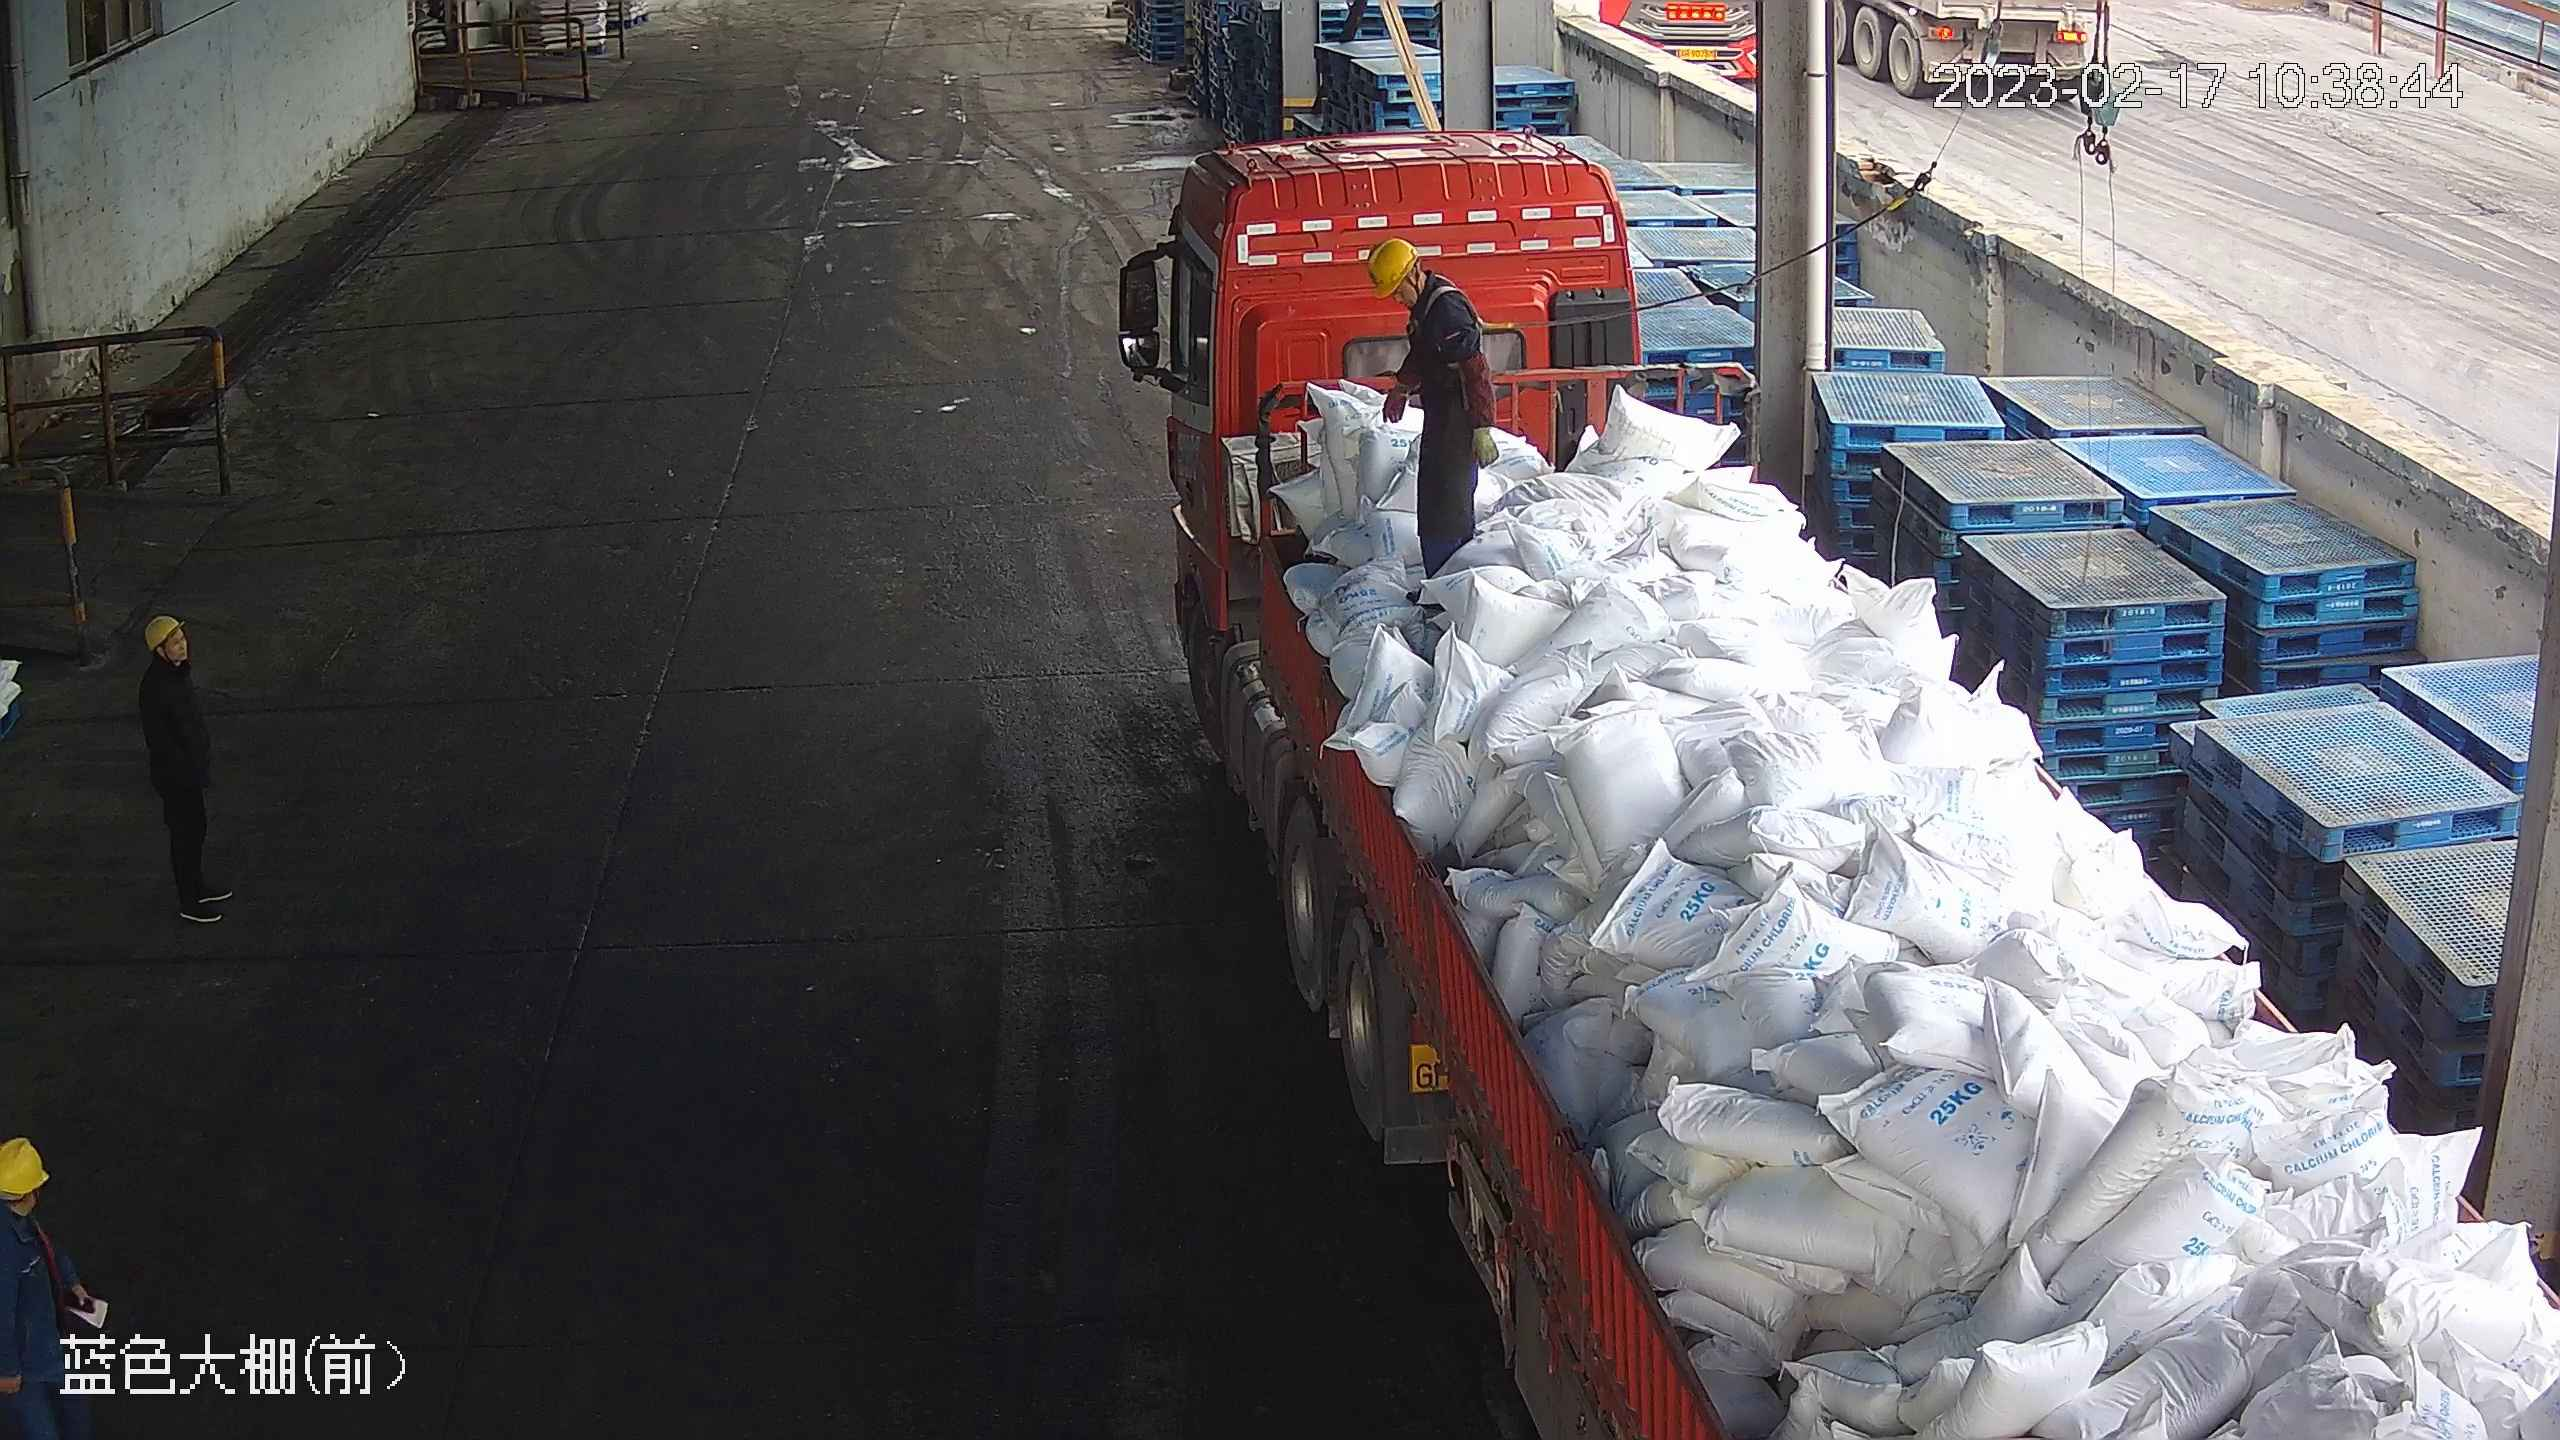belt: (1415, 276, 1493, 341)
head: (1364, 237, 1469, 339), (1, 1130, 70, 1275), (134, 615, 202, 703)
helmet: (1363, 236, 1419, 297), (1, 1133, 48, 1193), (141, 615, 186, 654)
people: (1365, 238, 1499, 589), (134, 614, 234, 931), (8, 1129, 106, 1440)
truck: (1124, 147, 2558, 1440)
